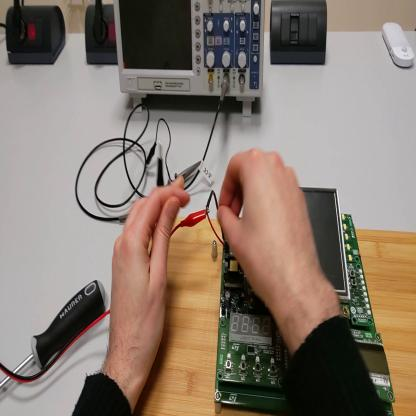hand: (219, 148, 325, 310), (107, 176, 192, 377)
low voltage board: (217, 184, 397, 415)
oscilloscope: (115, 1, 268, 117)
oscilloscope probe tip: (119, 162, 204, 222)
screwdriver-: (1, 279, 110, 389)
socket: (6, 3, 67, 67), (87, 5, 118, 65)
working area: (134, 213, 416, 416)
